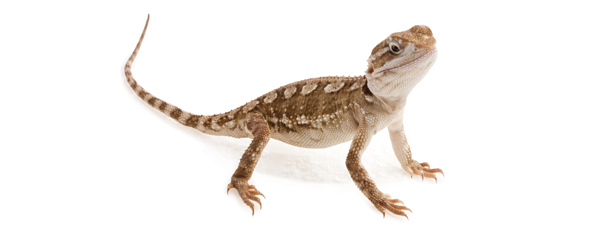bearded: (123, 11, 454, 223)
